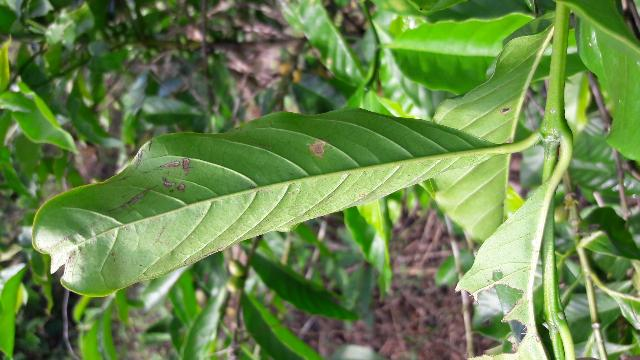rust_level_2: (33, 104, 488, 297)
